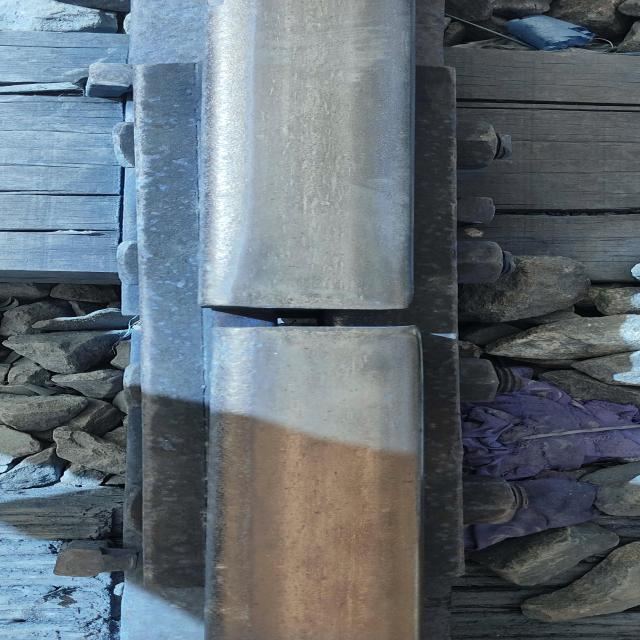railway_join_bar_defects_low: (189, 285, 447, 351)
